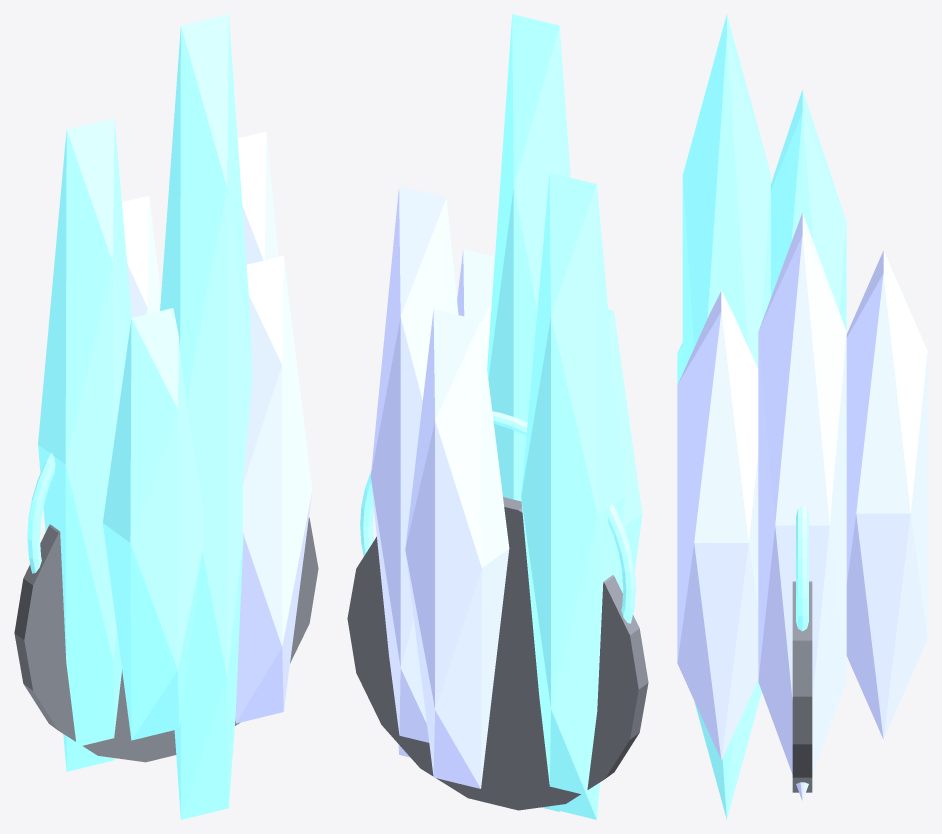
Rendered from hero_crystal_cathedral.glb.
3 views of the same model, side by side, from view 1: azimuth 30°, elevation 25°; view 2: azimuth 150°, elevation 25°; view 3: azimuth 270°, elevation 25° (orthographic).
Visible parts, largest first — view 1: world; view 2: world; view 3: world.
Boxes of the visible parts, box(x1,y1,x2,y2) form: world: box(14, 14, 318, 819); world: box(347, 14, 648, 819); world: box(677, 14, 927, 819).
Bounding box in the file's own units: 3.1 × 8 × 2.32.
